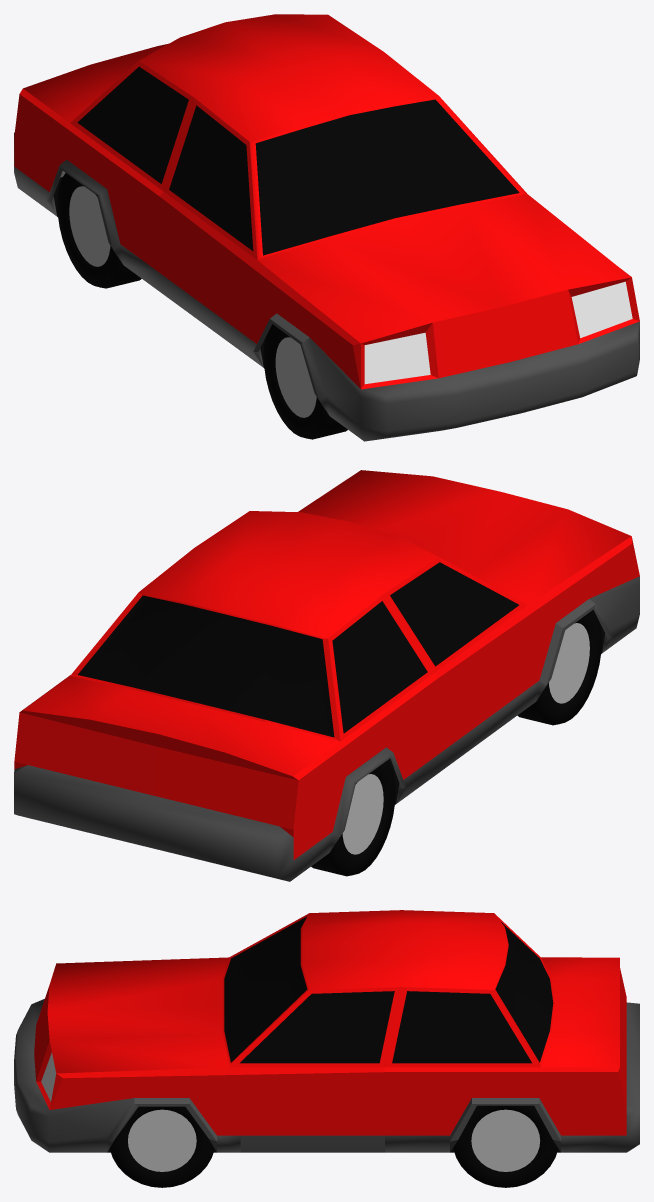
Rendered from autito.fbx.
The picture shows the model from 3 angles, top to bottom: view 1: azimuth 30°, elevation 25°; view 2: azimuth 150°, elevation 25°; view 3: azimuth 270°, elevation 25°; orthographic projection. The views are drawn at different scales.
Visible parts, largest first — view 1: Car; view 2: Car; view 3: Car, Car.001.
Part boxes in pixels (bbox=[...]): Car: bbox=[14, 14, 639, 441]; Car: bbox=[14, 470, 639, 881]; Car: bbox=[14, 910, 639, 1187]; Car.001: bbox=[239, 987, 401, 1152].
Bounding box in the file's own units: 210 × 159 × 466.
